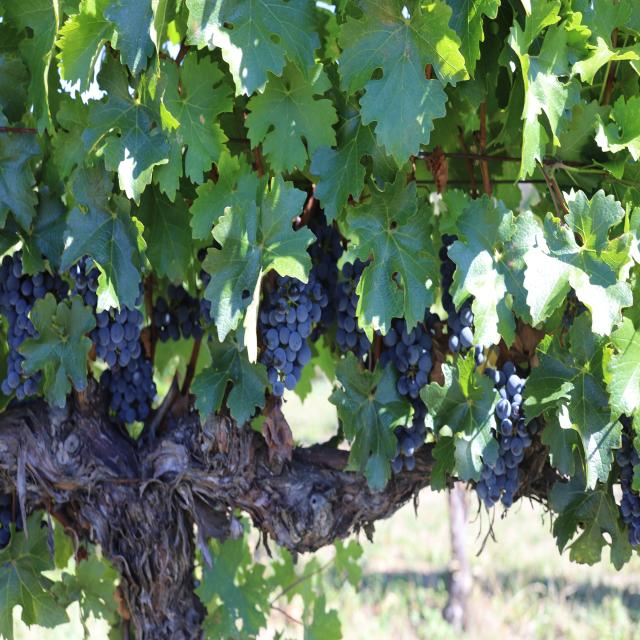grapes: (70, 256, 156, 423), (0, 251, 69, 398), (476, 361, 537, 508), (153, 284, 203, 342), (615, 431, 640, 546)
